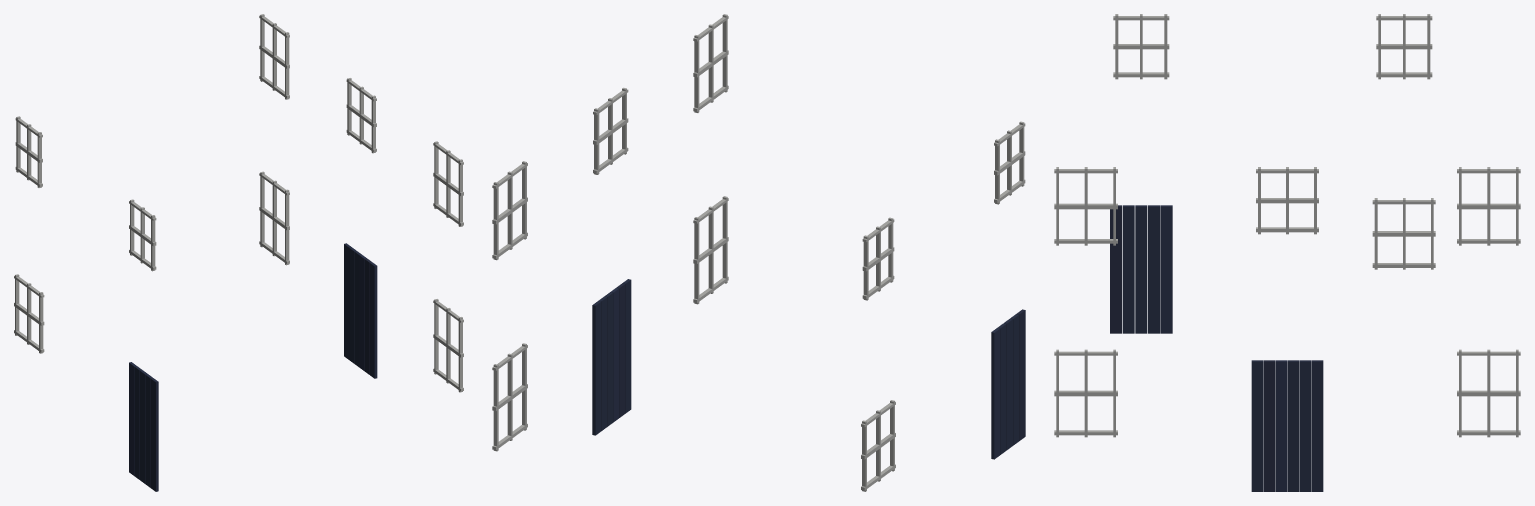
Rendered from SM_Bld_090_Wood.glb.
The picture shows the model from 3 angles, left to right: view 1: azimuth 30°, elevation 25°; view 2: azimuth 150°, elevation 25°; view 3: azimuth 270°, elevation 25°; orthographic projection. The views are drawn at different scales.
Visible parts, largest first — view 1: SM_Bld_090_Wood; view 2: SM_Bld_090_Wood; view 3: SM_Bld_090_Wood.
Boxes of the visible parts, box(x1,y1,x2,y2) form: SM_Bld_090_Wood: box(14, 14, 463, 491); SM_Bld_090_Wood: box(492, 14, 1025, 491); SM_Bld_090_Wood: box(1054, 14, 1520, 491).
Size of the model in its own units: 5.45 by 5.1 by 6.66.
